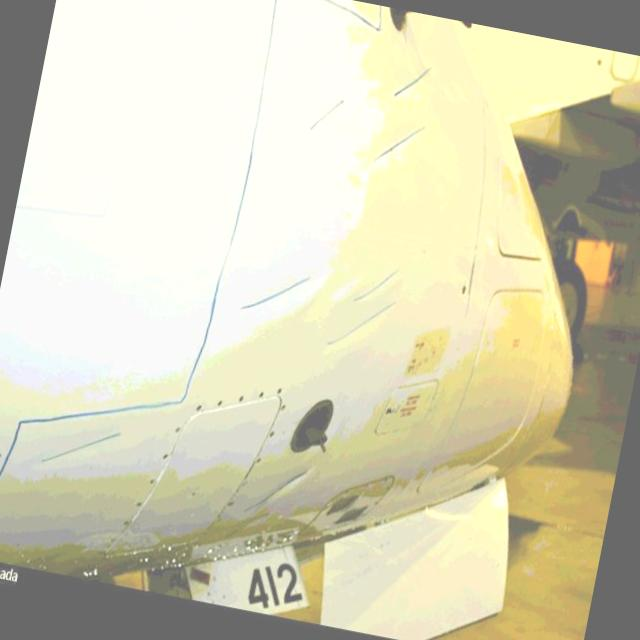dent: (368, 117, 422, 179)
